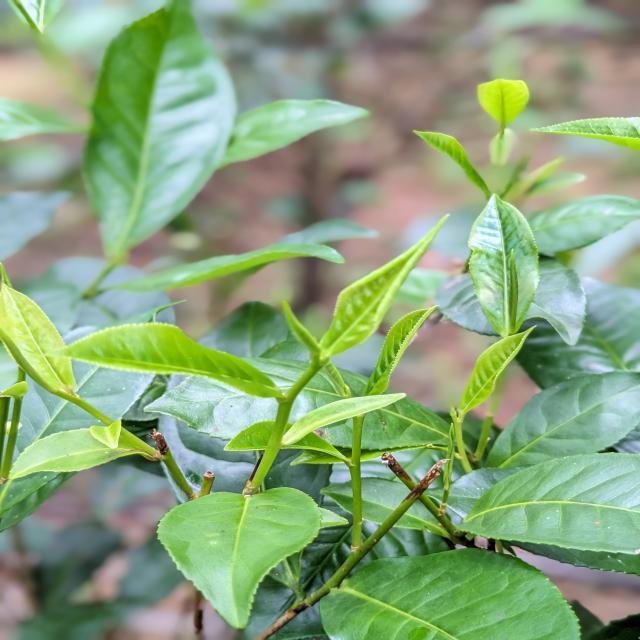Stem: (278, 399, 291, 414), (352, 418, 363, 431), (455, 420, 462, 428), (71, 396, 79, 402)
